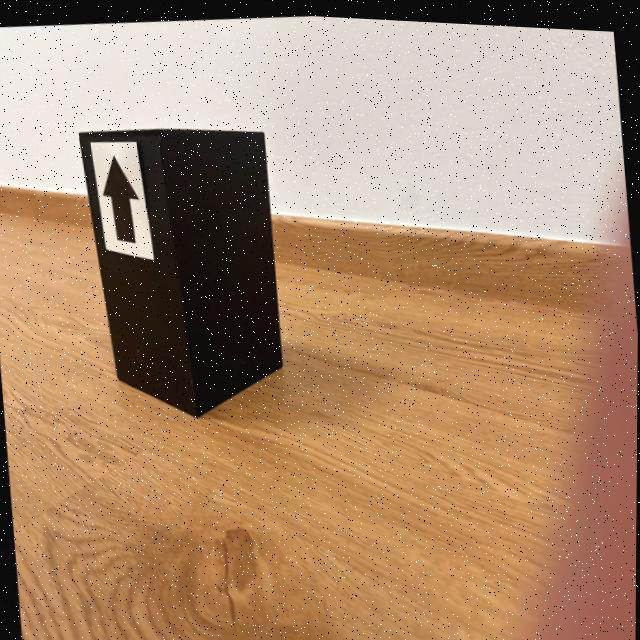UP: (103, 155, 138, 241)
